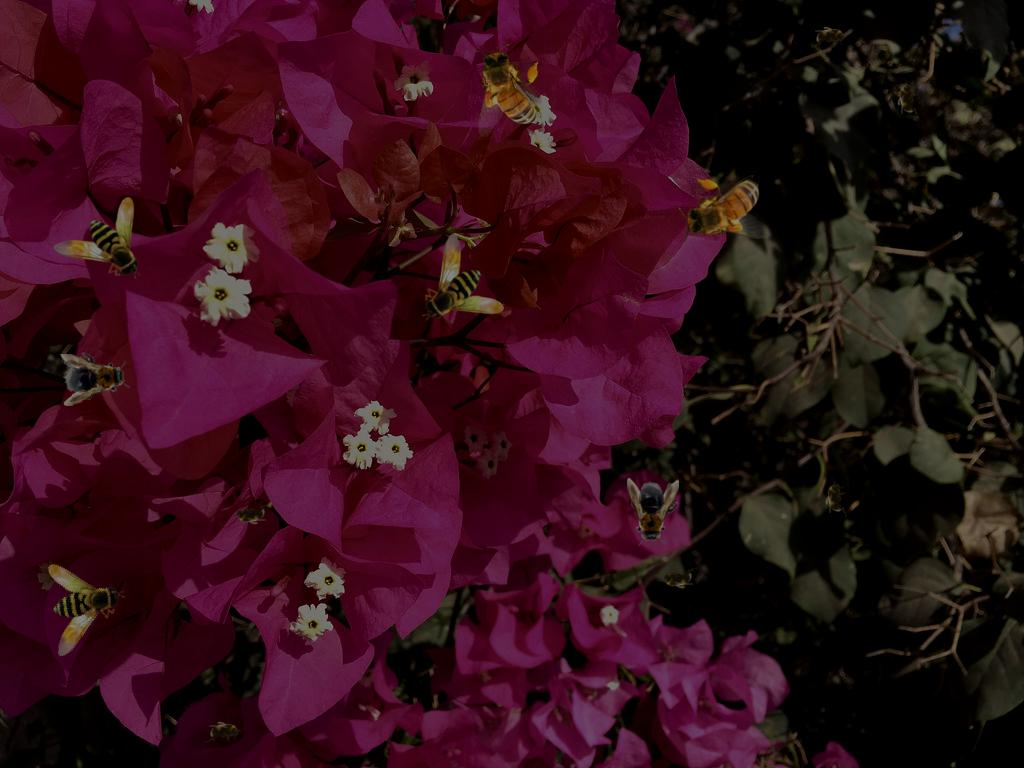Bee: (14, 555, 128, 671), (422, 233, 504, 321), (53, 197, 141, 279), (679, 175, 772, 243), (474, 44, 542, 137), (58, 347, 132, 407), (627, 478, 679, 546), (205, 721, 245, 743), (230, 503, 270, 525), (811, 26, 851, 48), (825, 477, 847, 517), (657, 567, 697, 589), (897, 78, 919, 118)
